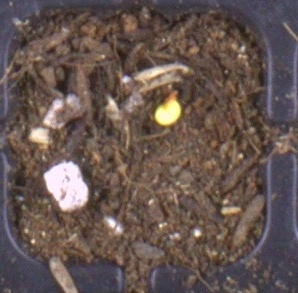chilli seed: (154, 100, 182, 127)
